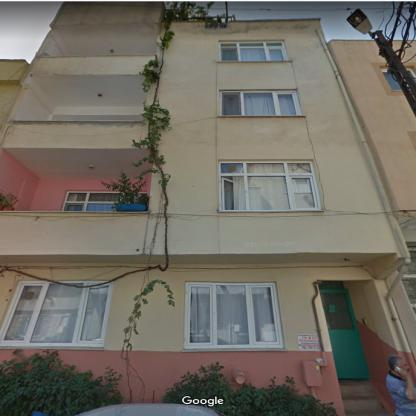door: (320, 282, 369, 379), (402, 245, 415, 314)
window: (1, 282, 110, 347), (185, 283, 283, 348), (220, 162, 319, 210), (220, 91, 302, 115), (220, 41, 287, 61), (63, 190, 118, 212), (382, 69, 401, 90)
